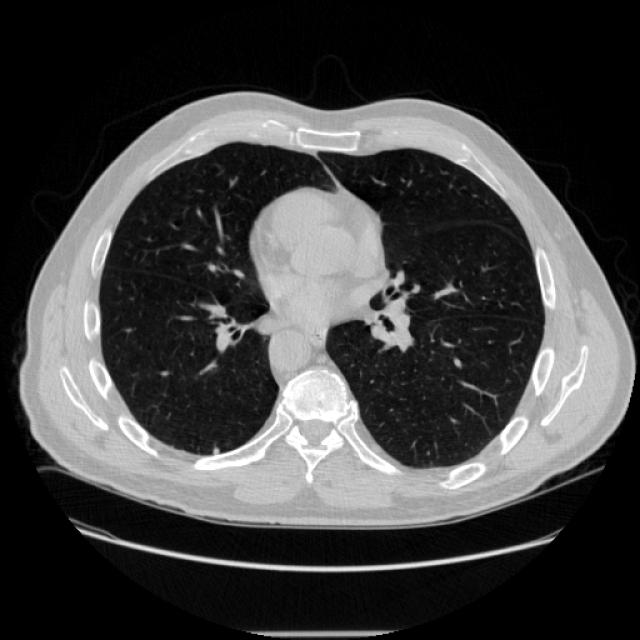nodule: (208, 441, 226, 459)
